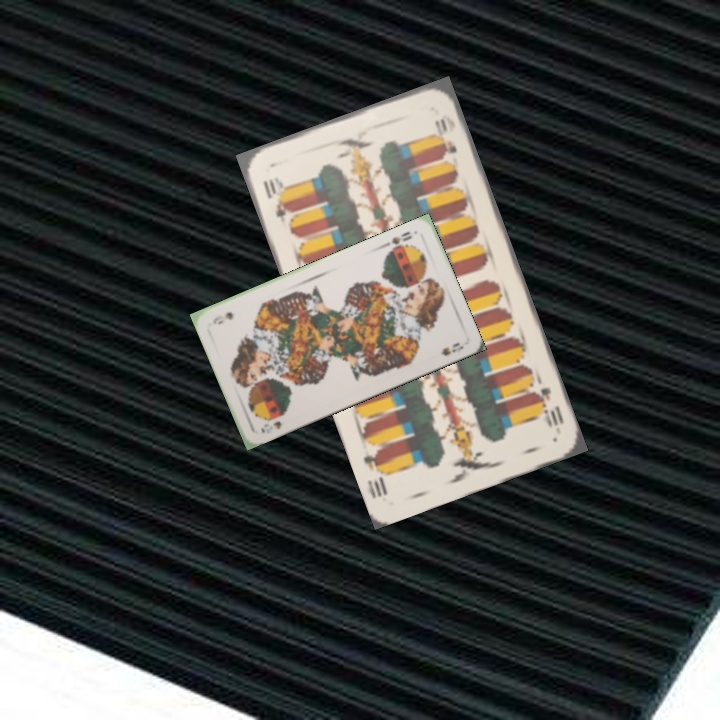E10: (529, 383, 567, 430), (259, 174, 293, 225)
SO: (383, 227, 415, 255), (257, 417, 284, 436)
